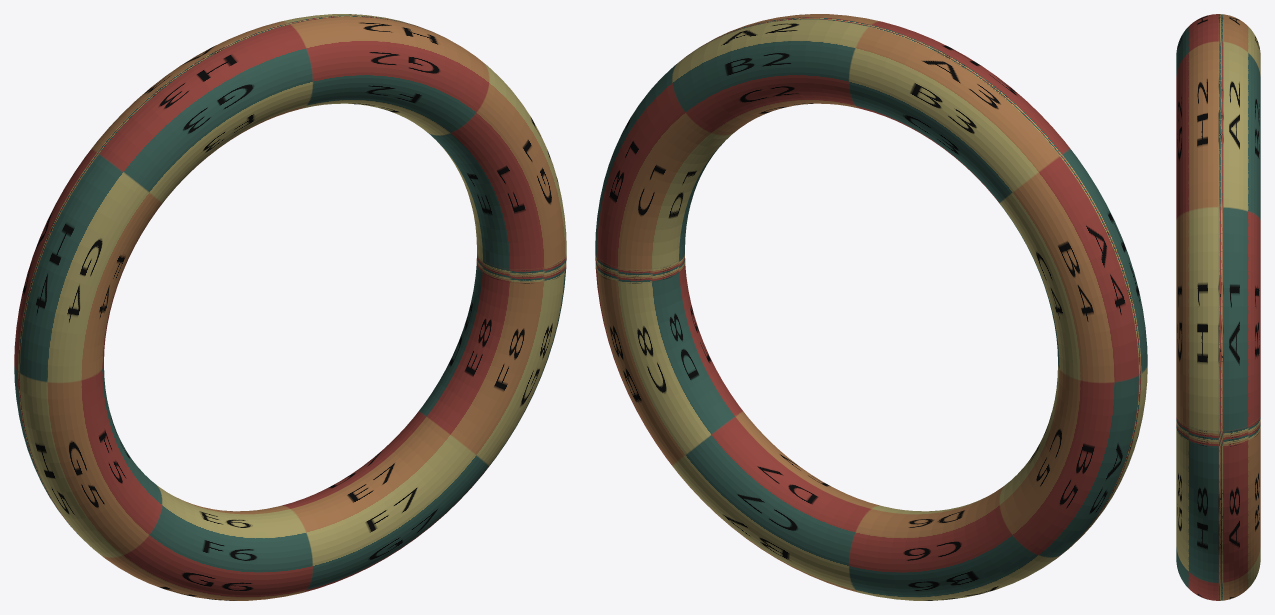
The model's file is texture_torus_R8_r3.glb.
The picture shows the model from 3 angles, left to right: view 1: azimuth 30°, elevation 25°; view 2: azimuth 150°, elevation 25°; view 3: azimuth 270°, elevation 25°; orthographic projection. The views are drawn at different scales.
Parts seen in each view (by area): view 1: world; view 2: world; view 3: world.
Boxes of the visible parts, x1=… form: world: x1=14, y1=14, x2=566, y2=600; world: x1=595, y1=14, x2=1147, y2=600; world: x1=1176, y1=14, x2=1260, y2=600.
Bounding box in the file's own units: 32.44 × 32.44 × 4.66.
Materials: 1 (1 with a texture image).
